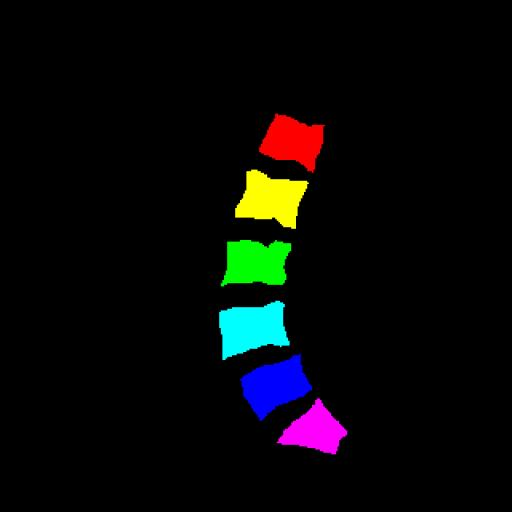L1: (260, 114, 324, 172)
L2: (235, 170, 308, 228)
L3: (221, 240, 291, 286)
L4: (219, 301, 289, 360)
L5: (241, 354, 312, 420)
S1: (277, 398, 347, 454)
